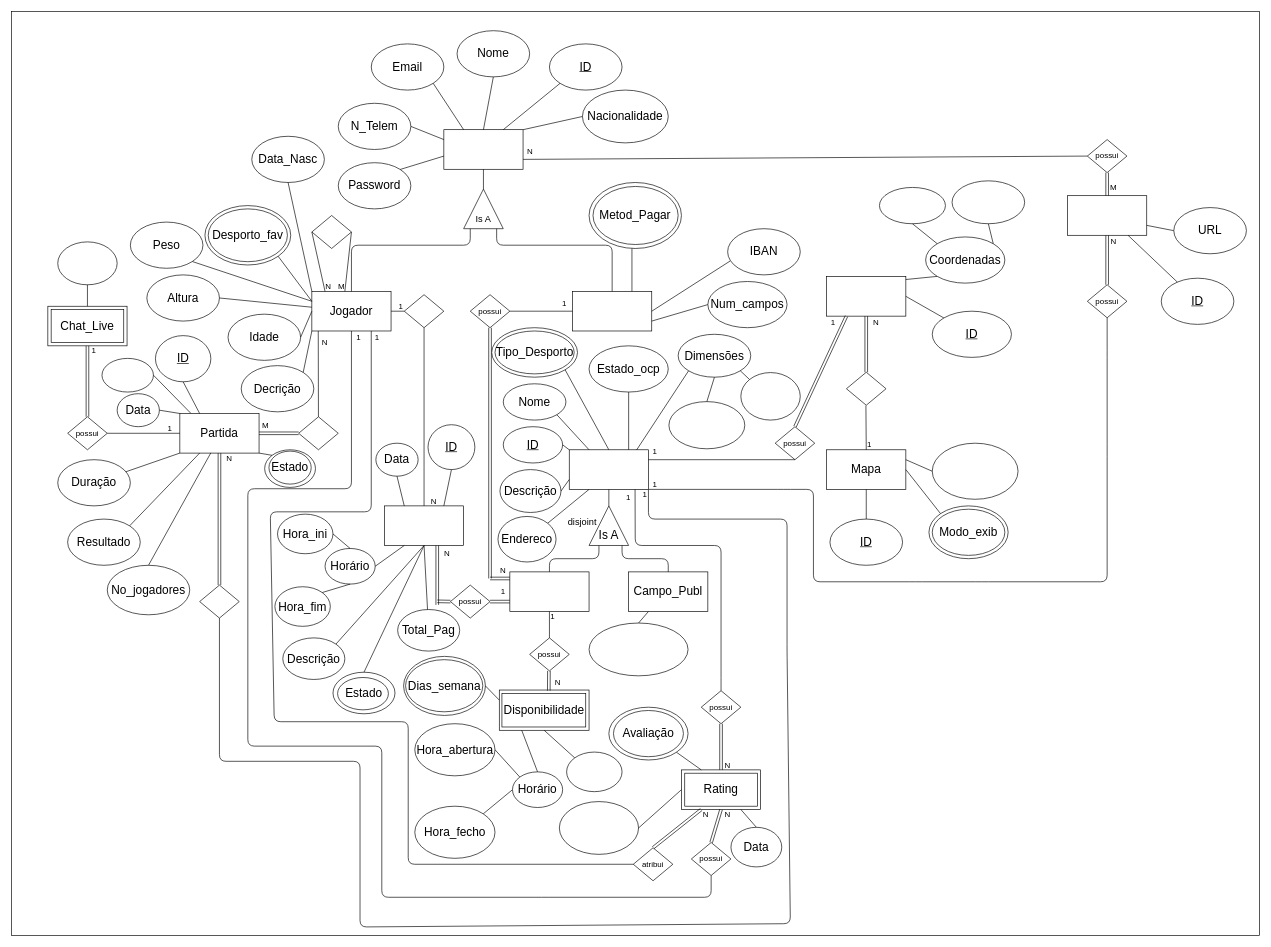
Some shapes in this 1271 by 947 pixel diagram are drawn without their labels. The centre of each missing label's shape, as x and y in pixels:
"amizade" goes at (331,231).
"Arrendador" goes at (612,311).
"Campo" goes at (608,469).
"Campo_Priv" goes at (549,591).
"Comentario" goes at (599,827).
"Comprimento" goes at (706,425).
"exibe" goes at (866,388).
"faz" goes at (424,311).
"Hora" goes at (127,375).
"Imagem" goes at (1107,215).
"Joga" goes at (318,433).
"Largura" goes at (770,396).
"Latitude" goes at (912,205).
"Longitude" goes at (988,202).
"Nome_Ent_Resp" goes at (638,649).
"Ponto" goes at (866,296).
"Preço" goes at (594,771).
"Reserva" goes at (424,525).
"Titulo" goes at (87,263).
"ultimo_update (Timestamp)" goes at (975,471).
"utiliza" goes at (219,601).
"Utilizador" goes at (483,149).
